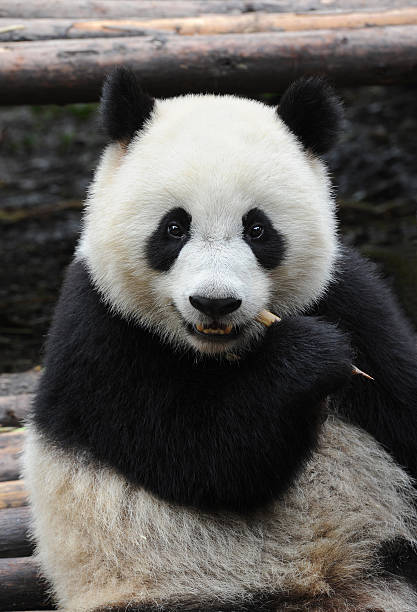panda: (74, 47, 357, 384)
